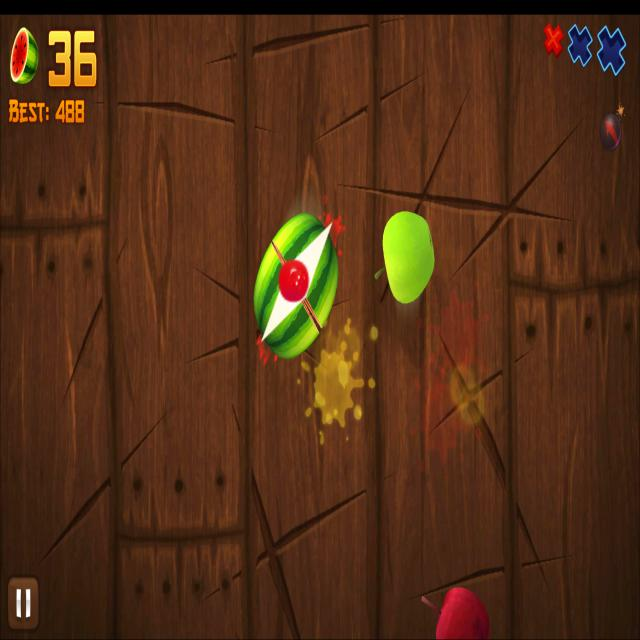fruit: (253, 215, 339, 359), (383, 210, 435, 303), (435, 586, 490, 640)
